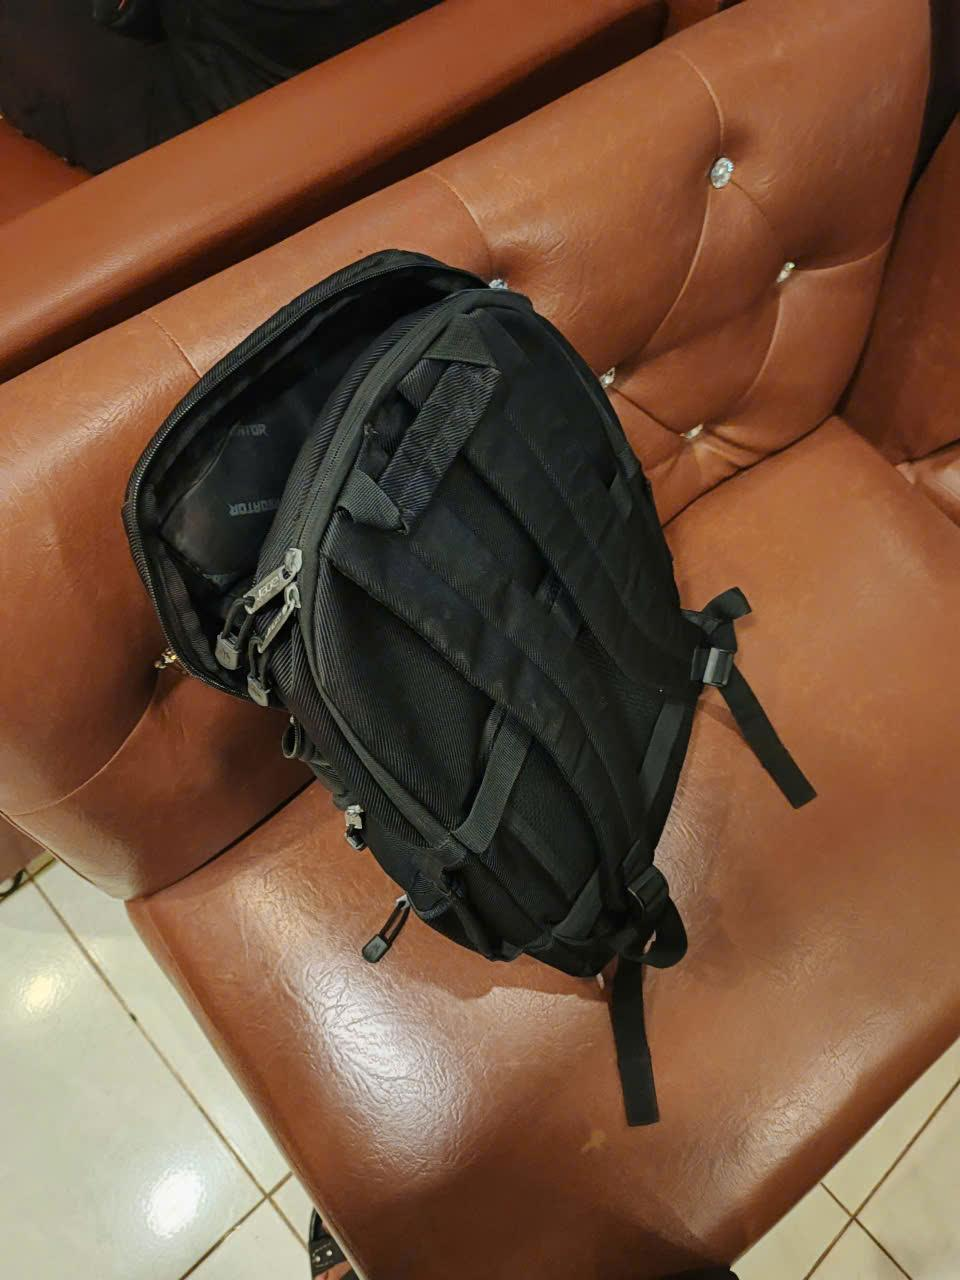Con lai: (130, 248, 724, 987)
